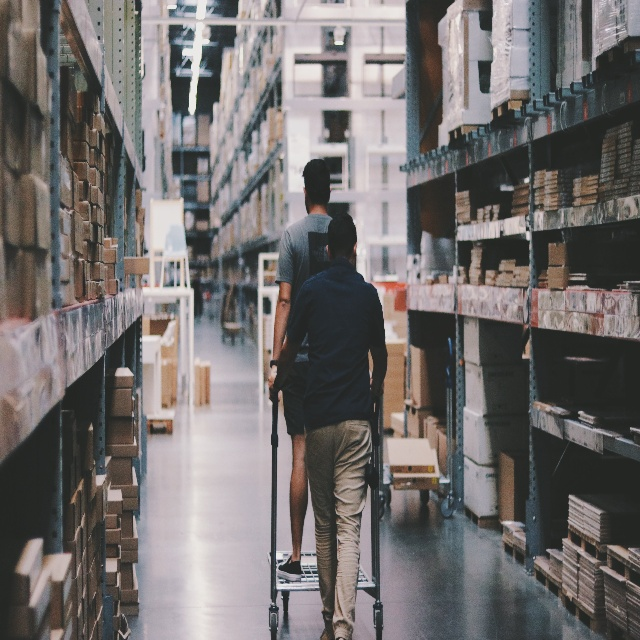Sin_guantes: (268, 364, 281, 402)
